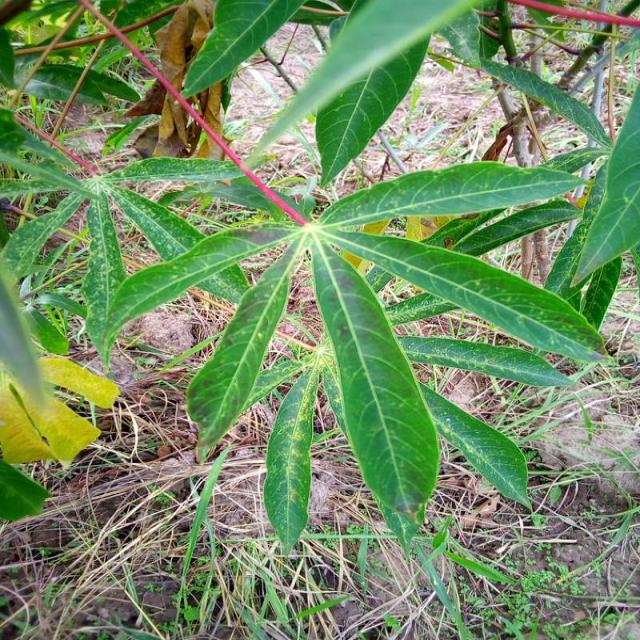cassava leaf: (309, 229, 440, 552), (570, 78, 638, 290), (262, 362, 320, 556)
